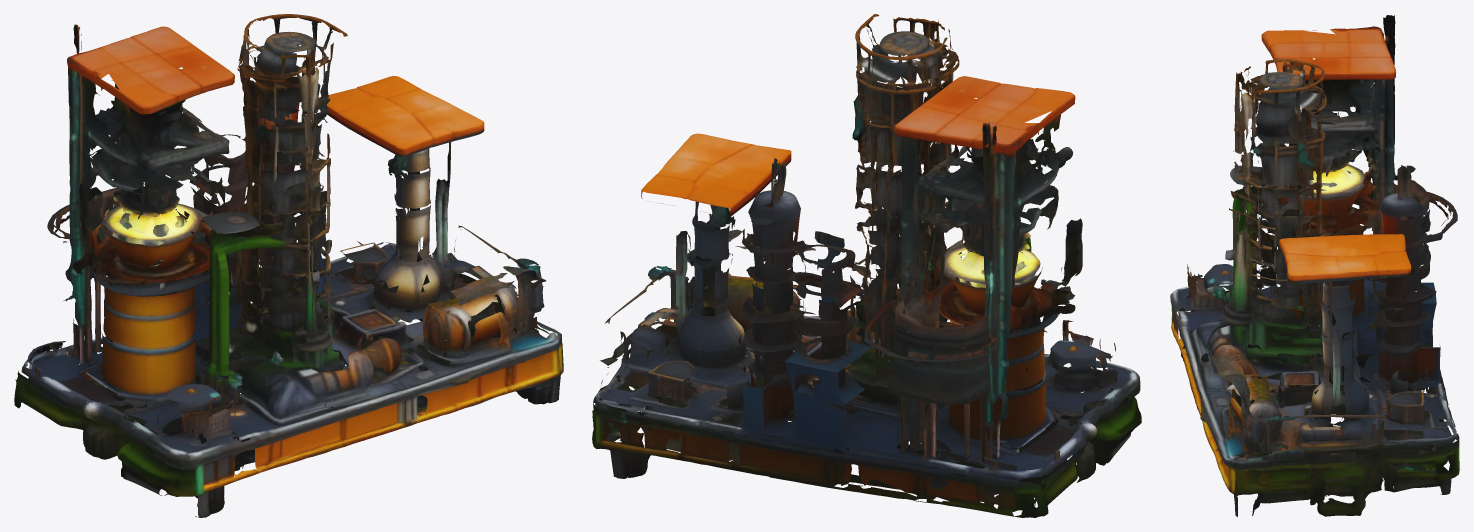
Rendered from extractor.glb.
The picture shows the model from 3 angles, left to right: view 1: azimuth 30°, elevation 25°; view 2: azimuth 150°, elevation 25°; view 3: azimuth 270°, elevation 25°; orthographic projection. The views are drawn at different scales.
Visible parts, largest first — view 1: geometry_0.3673; view 2: geometry_0.3673; view 3: geometry_0.3673.
Boxes of the visible parts, x1,y1,x2,y2 form: geometry_0.3673: [14, 14, 563, 517]; geometry_0.3673: [592, 14, 1141, 517]; geometry_0.3673: [1170, 15, 1459, 516].
Bounding box in the file's own units: 2.94 × 2.5 × 1.9.
1 material, 1 textured.
